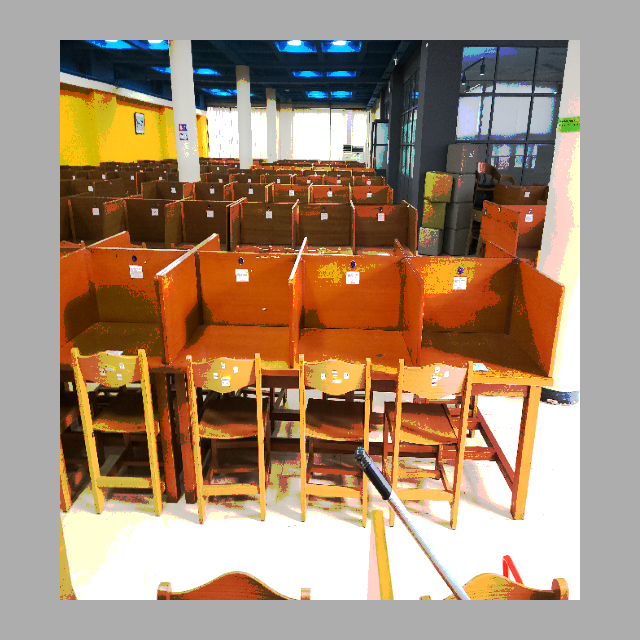empty: (427, 292, 542, 448), (301, 280, 402, 443), (187, 275, 287, 438)
